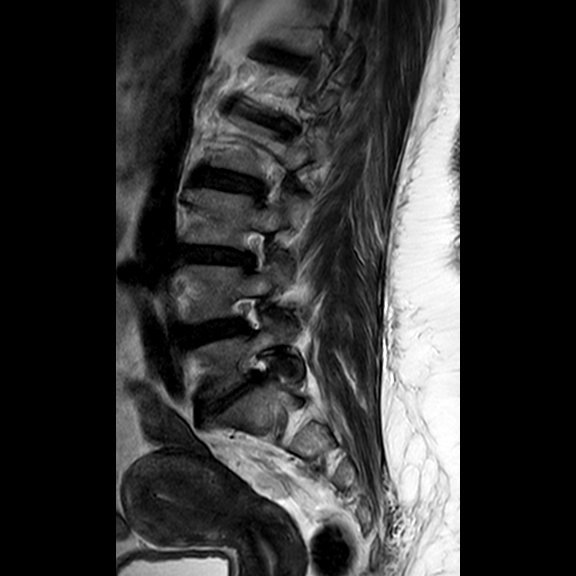RFS0: (230, 217, 276, 285), (222, 285, 276, 339)
